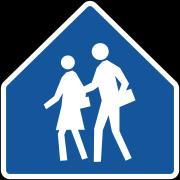School Ahead: (21, 18, 160, 169)
